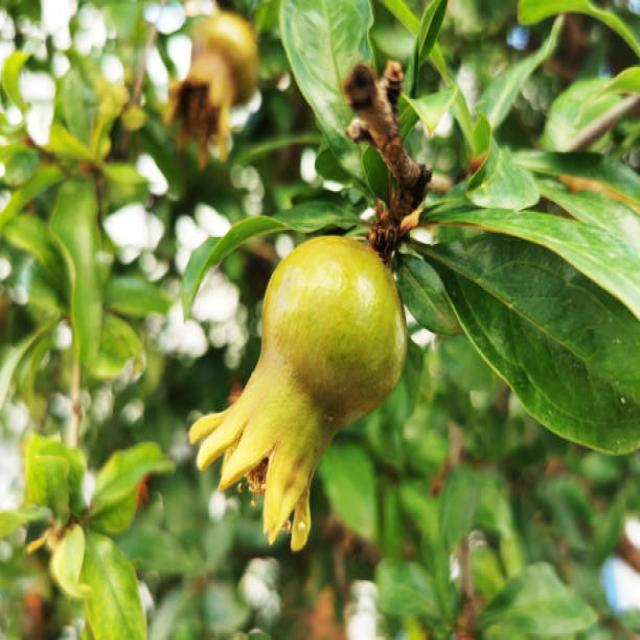Unripe: (188, 227, 406, 552)
